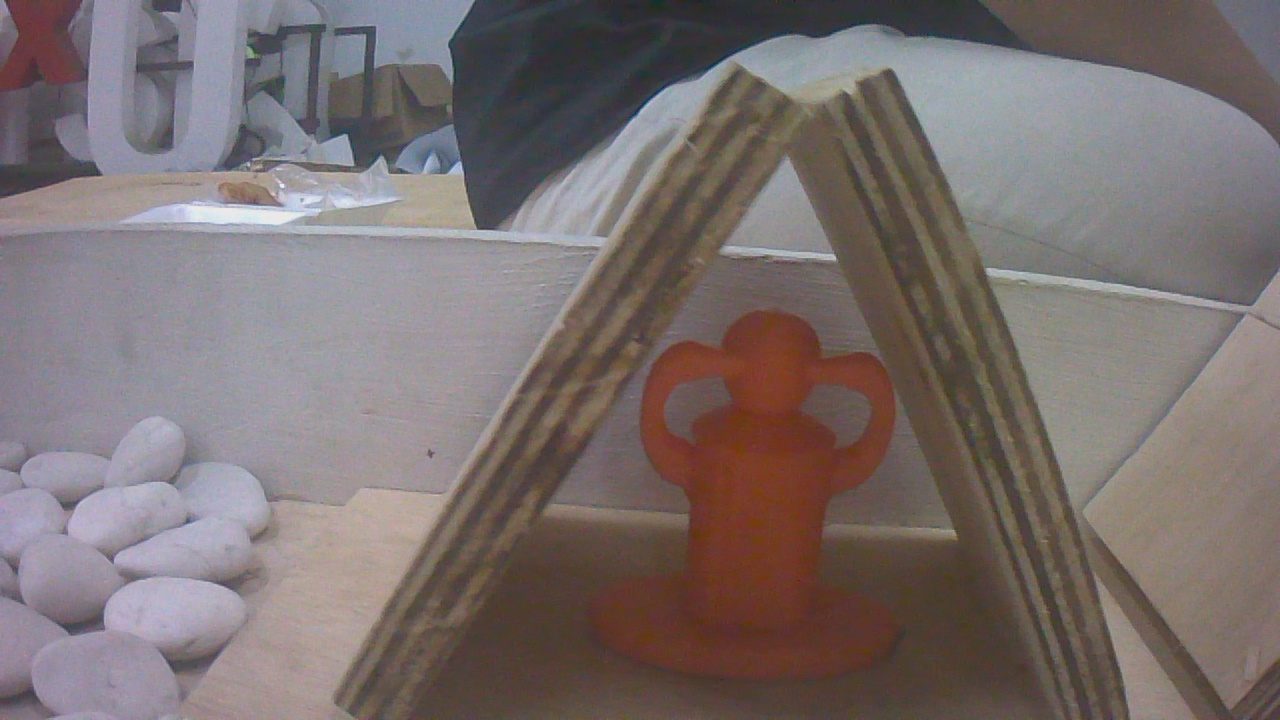real: (628, 304, 889, 678)
